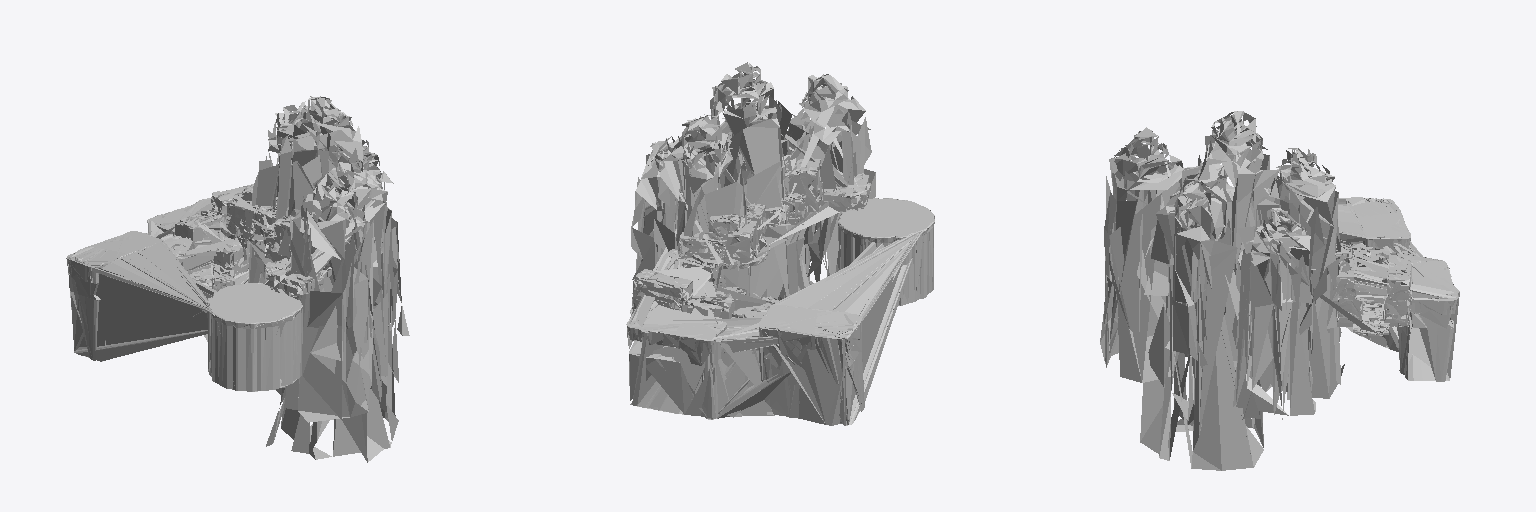
The model's file is cellSlimulationReef_Hub_Proxy-sharedassets3.assets-678.obj.
The picture shows the model from 3 angles: view 1: azimuth 30°, elevation 25°; view 2: azimuth 150°, elevation 25°; view 3: azimuth 270°, elevation 25°; orthographic projection.
Parts seen in each view (by area): view 1: cellSlimulationReef_Hub_Proxy_4, cellSlimulationReef_Hub_Proxy_1, cellSlimulationReef_Hub_Proxy_3, cellSlimulationReef_Hub_Proxy_0; view 2: cellSlimulationReef_Hub_Proxy_4, cellSlimulationReef_Hub_Proxy_1, cellSlimulationReef_Hub_Proxy_0, cellSlimulationReef_Hub_Proxy_3; view 3: cellSlimulationReef_Hub_Proxy_4, cellSlimulationReef_Hub_Proxy_1, cellSlimulationReef_Hub_Proxy_0.
Part boxes in pixels (bbox=[...]): cellSlimulationReef_Hub_Proxy_4: bbox=[66, 96, 409, 462]; cellSlimulationReef_Hub_Proxy_1: bbox=[68, 198, 302, 386]; cellSlimulationReef_Hub_Proxy_3: bbox=[207, 283, 302, 391]; cellSlimulationReef_Hub_Proxy_0: bbox=[67, 193, 302, 391]; cellSlimulationReef_Hub_Proxy_4: bbox=[627, 62, 933, 422]; cellSlimulationReef_Hub_Proxy_1: bbox=[627, 198, 933, 425]; cellSlimulationReef_Hub_Proxy_0: bbox=[626, 206, 934, 425]; cellSlimulationReef_Hub_Proxy_3: bbox=[838, 198, 934, 305]; cellSlimulationReef_Hub_Proxy_4: bbox=[1100, 111, 1459, 470]; cellSlimulationReef_Hub_Proxy_1: bbox=[1332, 198, 1459, 381]; cellSlimulationReef_Hub_Proxy_0: bbox=[1332, 197, 1458, 381].
Bounding box in the file's own units: 78.88 × 92.74 × 91.26.